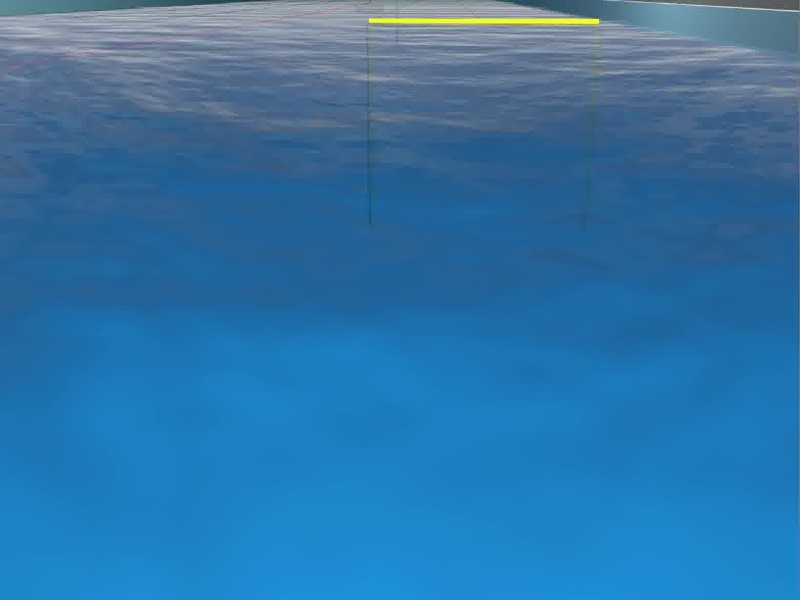gate: (363, 15, 601, 229)
